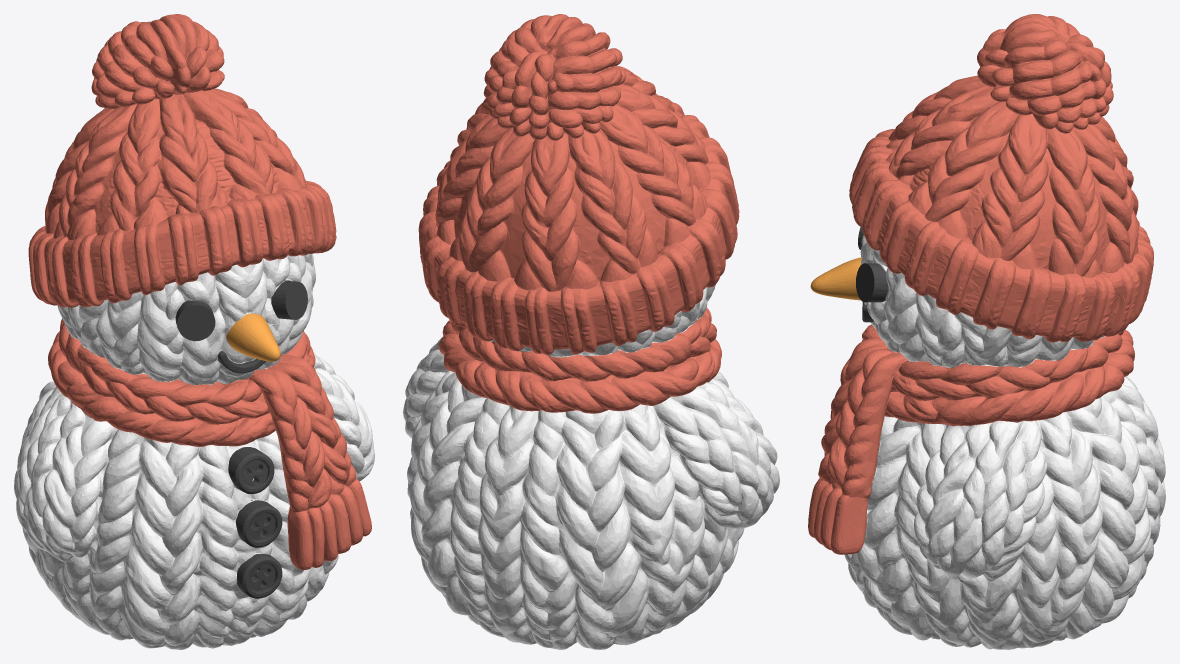
Rendered from muneco-nieve.glb.
3 views of the same model, side by side, from view 1: azimuth 30°, elevation 25°; view 2: azimuth 150°, elevation 25°; view 3: azimuth 270°, elevation 25° (orthographic). The views are drawn at different scales.
Visible parts, largest first — view 1: cuerpo, gorro, bufanda, detalles, nariz; view 2: cuerpo, gorro, bufanda; view 3: cuerpo, gorro, bufanda, nariz, detalles.
Part boxes in pixels (x1,y1,x2,y2): cuerpo: [14, 253, 374, 649]; gorro: [28, 14, 336, 307]; bufanda: [48, 318, 371, 569]; detalles: [175, 281, 307, 598]; nariz: [226, 313, 280, 361]; cuerpo: [403, 285, 779, 649]; gorro: [418, 14, 739, 354]; bufanda: [438, 307, 721, 413]; cuerpo: [844, 235, 1165, 649]; gorro: [849, 14, 1153, 342]; bufanda: [808, 324, 1134, 554]; nariz: [810, 257, 861, 300]; detalles: [856, 227, 888, 322].
Size of the model in its own units: 0.0397 by 0.0643 by 0.0357.
